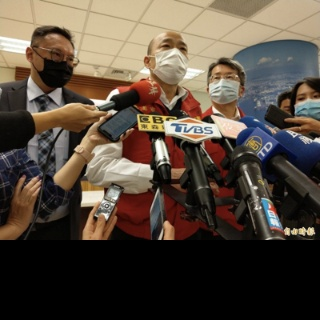with_mask: (33, 43, 75, 88), (150, 36, 188, 84), (208, 70, 242, 104), (294, 89, 320, 120)
